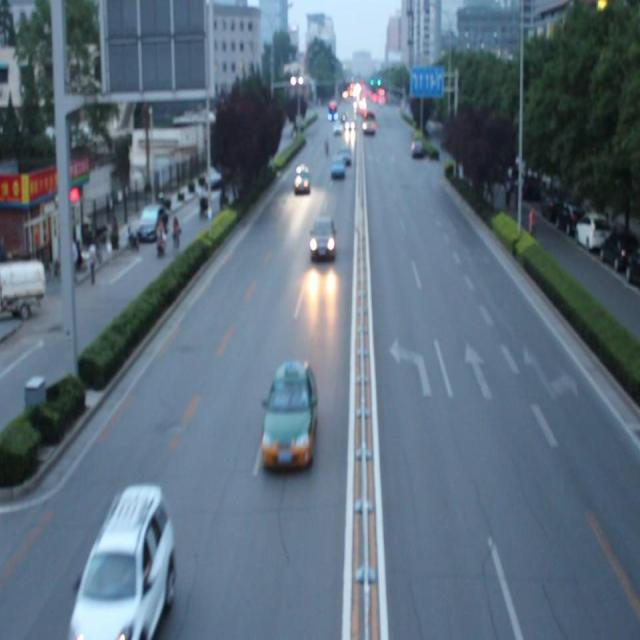car: (70, 482, 176, 640), (260, 359, 319, 475), (308, 214, 336, 261)
